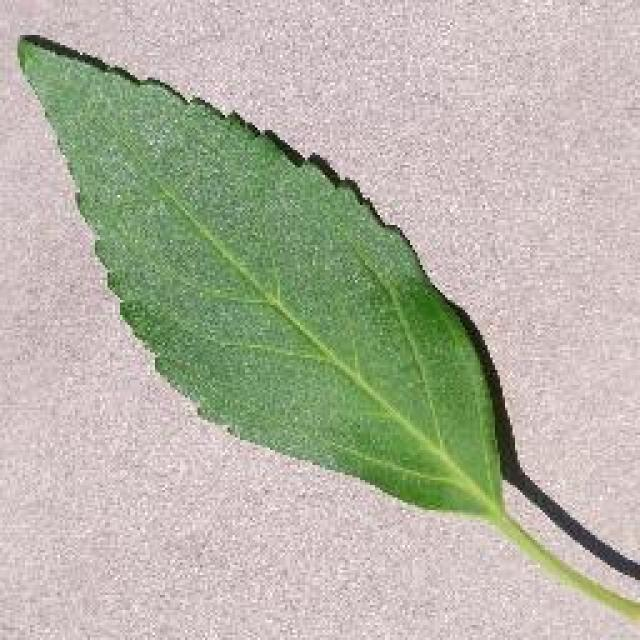Cherry___healthy: (92, 80, 510, 530)
